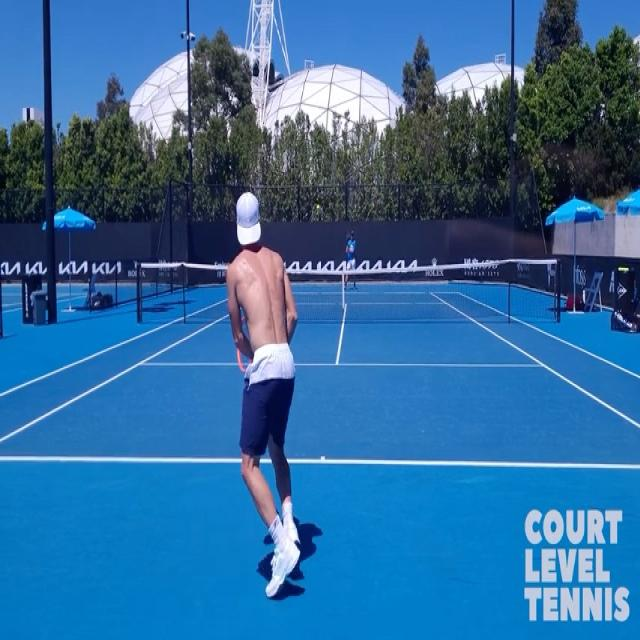ready-position: (214, 190, 307, 588)
